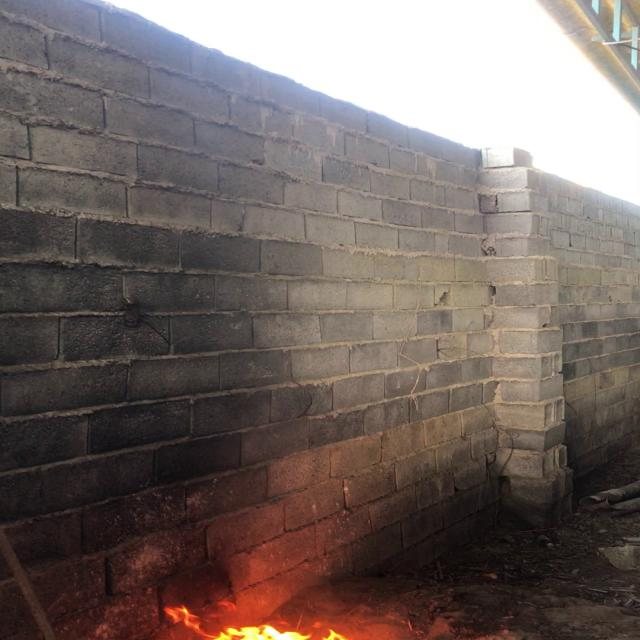smoke: (215, 615, 340, 639)
